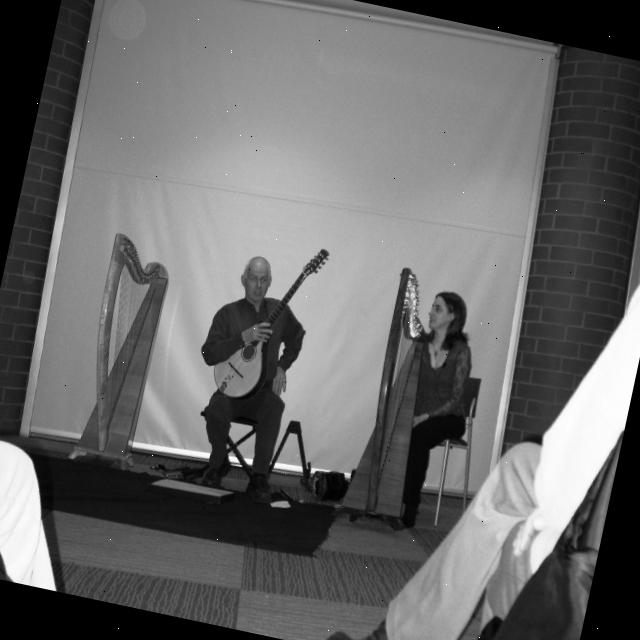harp: (325, 256, 452, 534), (62, 232, 183, 467)
